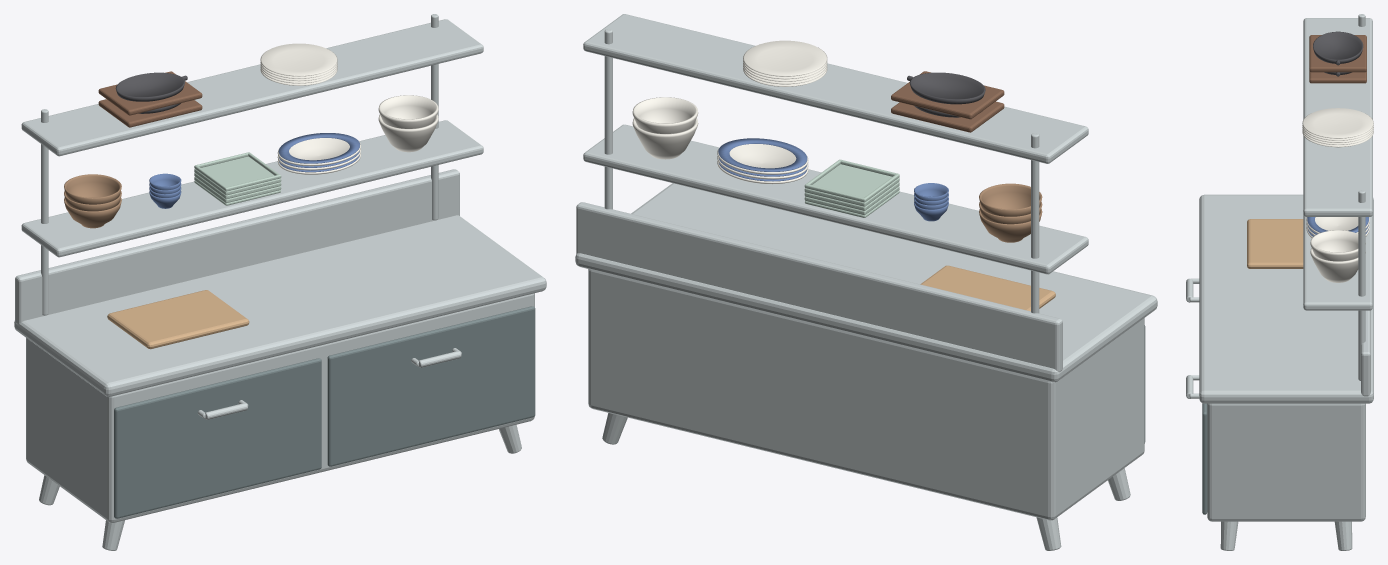
The model's file is KitchenPrep.fbx.
The picture shows the model from 3 angles, left to right: view 1: azimuth 30°, elevation 25°; view 2: azimuth 150°, elevation 25°; view 3: azimuth 270°, elevation 25°; orthographic projection. The views are drawn at different scales.
Visible parts, largest first — view 1: Steel rolled edge top, Inset cabinet door.001, Inset cabinet door, Splashback, Steel cabinet, Open wall shelf.001, Open wall shelf, Wood chopping board, Stacked white saucer.004, Hollow bowl.001, Dish cast iron skillet.001, Dish celadon square plate.003 (+9 smaller); view 2: Steel cabinet, Steel rolled edge top, Splashback, Open wall shelf.001, Open wall shelf, Wood chopping board, Stacked white saucer.004, Hollow bowl.001, Dish cast iron skillet.001, Dish celadon square plate.003, Dish white oval curry plate.002, Dish earthenware soup bowl.002 (+7 smaller); view 3: Steel rolled edge top, Steel cabinet, Open wall shelf.001, Open wall shelf, Wood chopping board, Stacked white saucer.004, Hollow bowl.001, Dish cast iron skillet.001, Shelf support.001, Dish walnut steak board.001, Hollow bowl, Splashback (+5 smaller).
Part boxes in pixels (box(x1,y1,x2,y2)): Steel rolled edge top: box(14, 215, 546, 396); Inset cabinet door.001: box(327, 306, 535, 466); Inset cabinet door: box(114, 358, 321, 518); Splashback: box(15, 169, 459, 324); Steel cabinet: box(26, 293, 534, 522); Open wall shelf.001: box(21, 19, 483, 156); Open wall shelf: box(21, 120, 483, 257); Wood chopping board: box(107, 290, 249, 349); Stacked white saucer.004: box(260, 43, 337, 76); Hollow bowl.001: box(378, 95, 438, 128); Dish cast iron skillet.001: box(115, 72, 184, 101); Dish celadon square plate.003: box(194, 156, 280, 193); Steel cabinet: box(588, 269, 1144, 520); Steel rolled edge top: box(575, 183, 1157, 382); Splashback: box(576, 202, 1062, 371); Open wall shelf.001: box(583, 14, 1088, 163); Open wall shelf: box(583, 124, 1088, 274); Wood chopping board: box(920, 265, 1055, 311); Stacked white saucer.004: box(743, 40, 827, 76); Hollow bowl.001: box(632, 97, 698, 133); Dish cast iron skillet.001: box(909, 72, 985, 104); Dish celadon square plate.003: box(804, 164, 899, 204); Dish white oval curry plate.002: box(717, 144, 808, 174); Dish earthenware soup bowl.002: box(979, 183, 1042, 216); Steel rolled edge top: box(1199, 194, 1373, 403); Steel cabinet: box(1207, 403, 1365, 521); Open wall shelf.001: box(1303, 18, 1372, 216); Open wall shelf: box(1303, 214, 1372, 310); Wood chopping board: box(1247, 219, 1303, 268); Stacked white saucer.004: box(1302, 108, 1373, 138); Hollow bowl.001: box(1310, 230, 1365, 261); Dish cast iron skillet.001: box(1313, 31, 1363, 63); Shelf support.001: box(1358, 190, 1365, 380); Dish walnut steak board.001: box(1309, 35, 1366, 72); Hollow bowl: box(1310, 248, 1365, 282); Splashback: box(1361, 310, 1370, 396).
Size of the model in its own units: 238 by 205 by 94.6.
